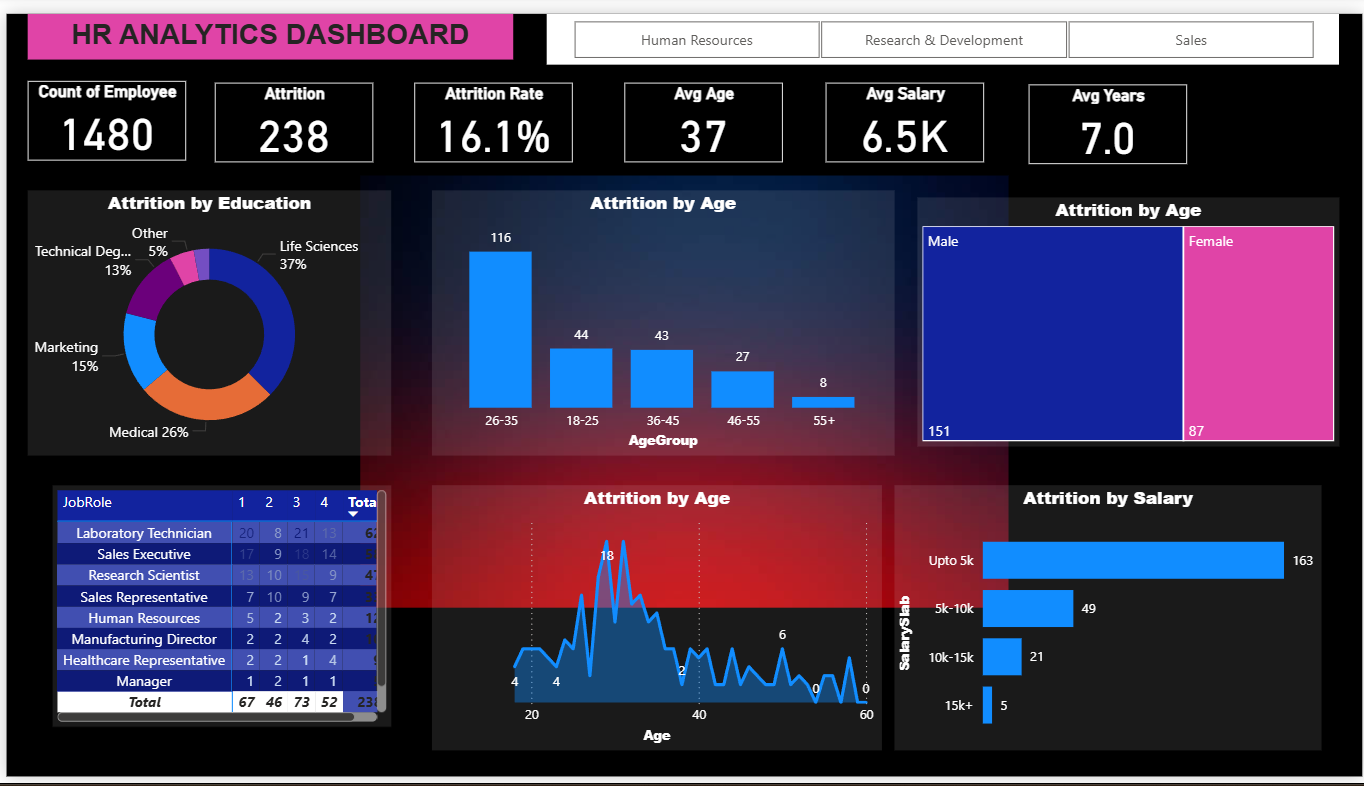

This screenshot's page, from the dashboard's own definition file:
{"tool":"powerbi","page":{"name":"Page 1","canvas":[1280,720],"ordinal":0},"visuals":[{"type":"card","title":"Count of Employee","fields":{"Values":["CountNonNull(HR_Analytics.EmpID)"]},"box":[20.6,62.8,149.6,75.5],"z":0},{"type":"card","title":"Attrition","fields":{"Values":["Sum(HR_Analytics.AttritionCount)"]},"box":[196.2,64.2,149.6,75.5],"z":1000},{"type":"card","title":"Attrition Rate","fields":{"Values":["HR_Analytics.AttritionRate"]},"box":[385.6,65.6,149.6,75.5],"z":2000},{"type":"card","title":"Avg Age","fields":{"Values":["Avg(HR_Analytics.Age)"]},"box":[583.2,65.6,149.6,75.5],"z":3000},{"type":"card","title":"Avg Salary","fields":{"Values":["Avg(HR_Analytics.MonthlyIncome)"]},"box":[772.5,65.6,149.6,75.5],"z":4000},{"type":"card","title":"Avg Years","fields":{"Values":["Avg(HR_Analytics.YearsAtCompany)"]},"box":[964.7,67,149.6,75.5],"z":5000},{"type":"donutChart","title":"Attrition by Education","fields":{"Category":["HR_Analytics.EducationField"],"Y":["Sum(HR_Analytics.AttritionCount)"]},"box":[20,166.7,343.3,250],"z":6000},{"type":"columnChart","title":"Attrition by Age","fields":{"Category":["HR_Analytics.AgeGroup"],"Y":["Sum(HR_Analytics.AttritionCount)"]},"box":[401.7,166.7,436.7,250],"z":7000},{"type":"pivotTable","title":"Attrition by Age","fields":{"Rows":["HR_Analytics.JobRole"],"Values":["Sum(HR_Analytics.AttritionCount)"],"Columns":["HR_Analytics.JobSatisfaction"]},"box":[43.3,445,320,228.3],"z":8000},{"type":"barChart","title":"Attrition by Salary","fields":{"Category":["HR_Analytics.SalarySlab","HR_Analytics.JobRole"],"Y":["Sum(HR_Analytics.AttritionCount)"]},"box":[838.3,445,403.3,250],"z":9000},{"type":"areaChart","title":"Attrition by Age","fields":{"Category":["HR_Analytics.Age"],"Y":["Sum(HR_Analytics.AttritionCount)"]},"box":[401.7,445,425,250],"z":10000},{"type":"treemap","title":"Attrition by Age","fields":{"Group":["HR_Analytics.Gender"],"Values":["Sum(HR_Analytics.AttritionCount)"]},"box":[860,173.3,398.3,235],"z":11000},{"type":"slicer","fields":{"Values":["HR_Analytics.Department"]},"box":[510,0,748.3,48.3],"z":12000},{"type":"textbox","box":[20,0,458.3,43.3],"z":13000}]}

Visuals, with their boxes in screenshot pixels (x1, y1, x2, y2), scaled from the page's 1280x720 canvas onto the 1364x786 screenshot:
"Count of Employee" card: [22, 69, 181, 151]
"Attrition" card: [209, 70, 368, 153]
"Attrition Rate" card: [411, 72, 570, 154]
"Avg Age" card: [621, 72, 781, 154]
"Avg Salary" card: [823, 72, 983, 154]
"Avg Years" card: [1028, 73, 1187, 156]
"Attrition by Education" donutChart: [21, 182, 387, 455]
"Attrition by Age" columnChart: [428, 182, 893, 455]
"Attrition by Age" pivotTable: [46, 486, 387, 735]
"Attrition by Salary" barChart: [893, 486, 1323, 759]
"Attrition by Age" areaChart: [428, 486, 881, 759]
"Attrition by Age" treemap: [916, 189, 1341, 446]
slicer - HR_Analytics.Department: [543, 0, 1341, 53]
textbox: [21, 0, 510, 47]
